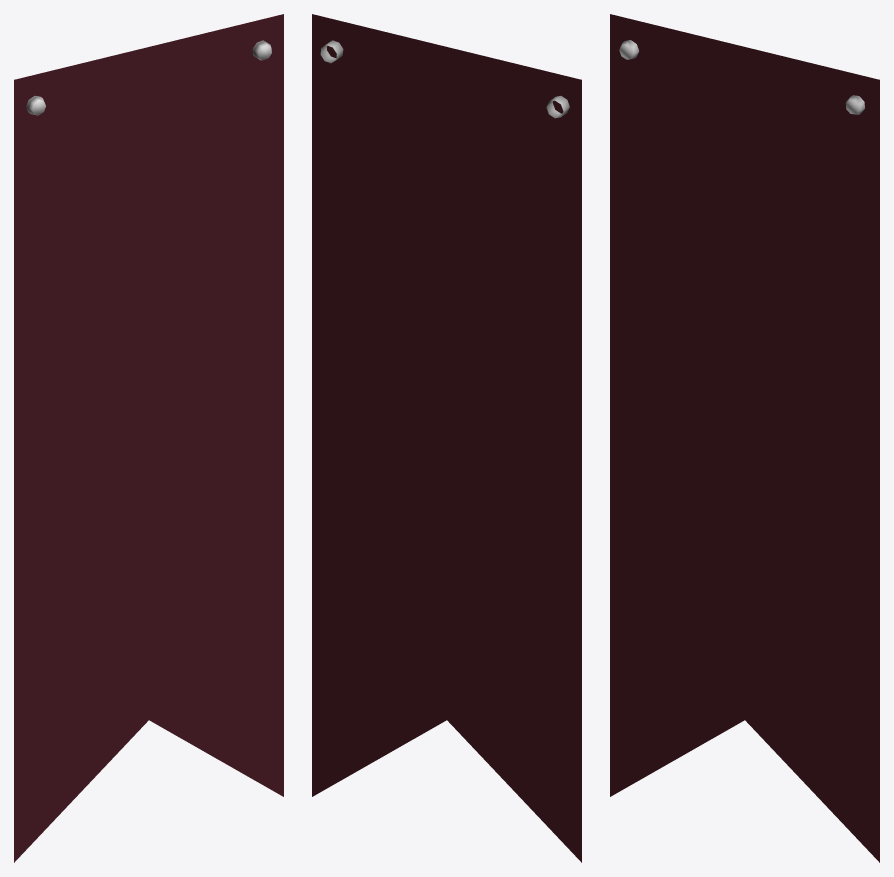
File: pq_banniere_toile.glb
3 views of the same model, side by side, from view 1: azimuth 30°, elevation 25°; view 2: azimuth 150°, elevation 25°; view 3: azimuth 330°, elevation 25° (orthographic).
Parts seen in each view (by area): view 1: Banner_1_Cloth; view 2: Banner_1_Cloth; view 3: Banner_1_Cloth.
Part boxes in pixels (x1,y1,x2,y2): Banner_1_Cloth: [14, 14, 283, 862]; Banner_1_Cloth: [312, 14, 581, 862]; Banner_1_Cloth: [610, 14, 879, 862].
Bounding box in the file's own units: 0.8102 × 2.25 × 0.0568.
